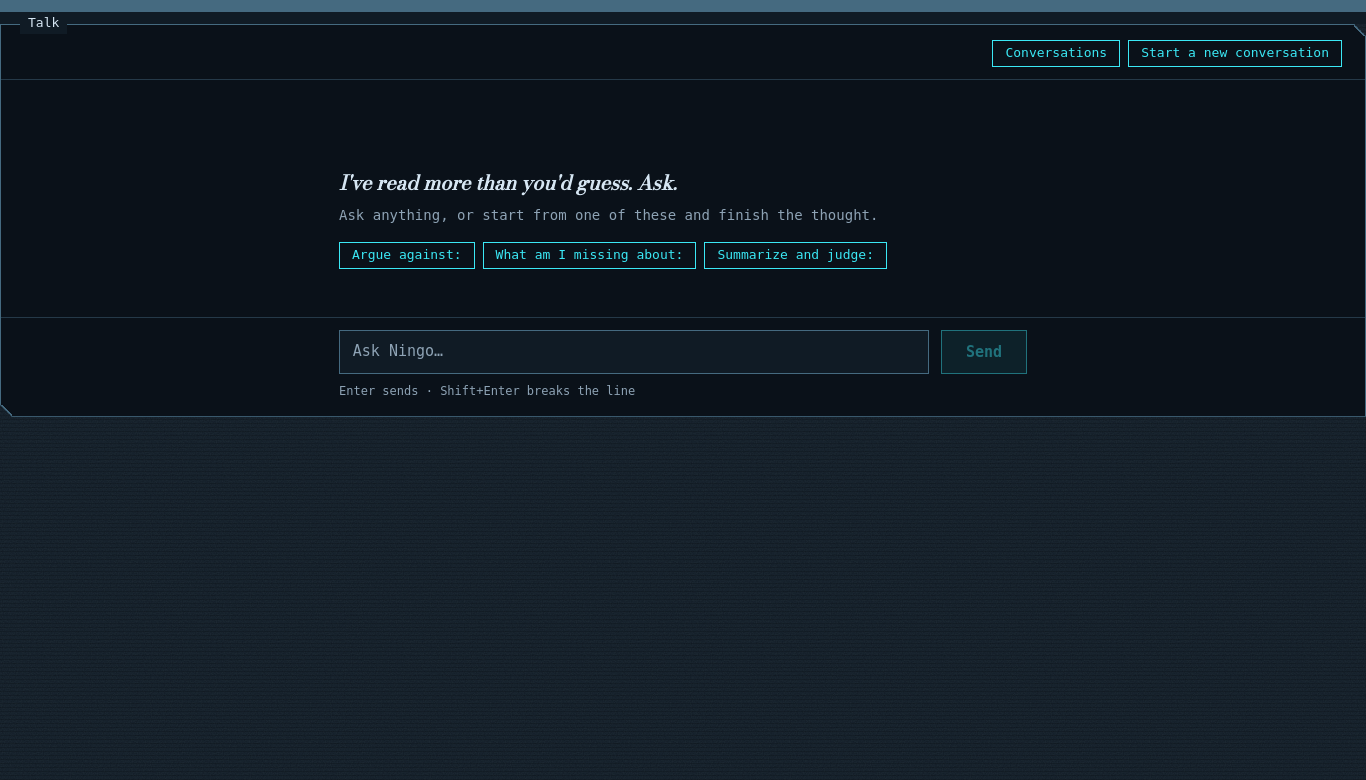
Scenario: the conversation › fills the message from a beginning and sends nothing until the owner does
Click the button "Argue against:" at [407, 255], box [339,242,475,269]
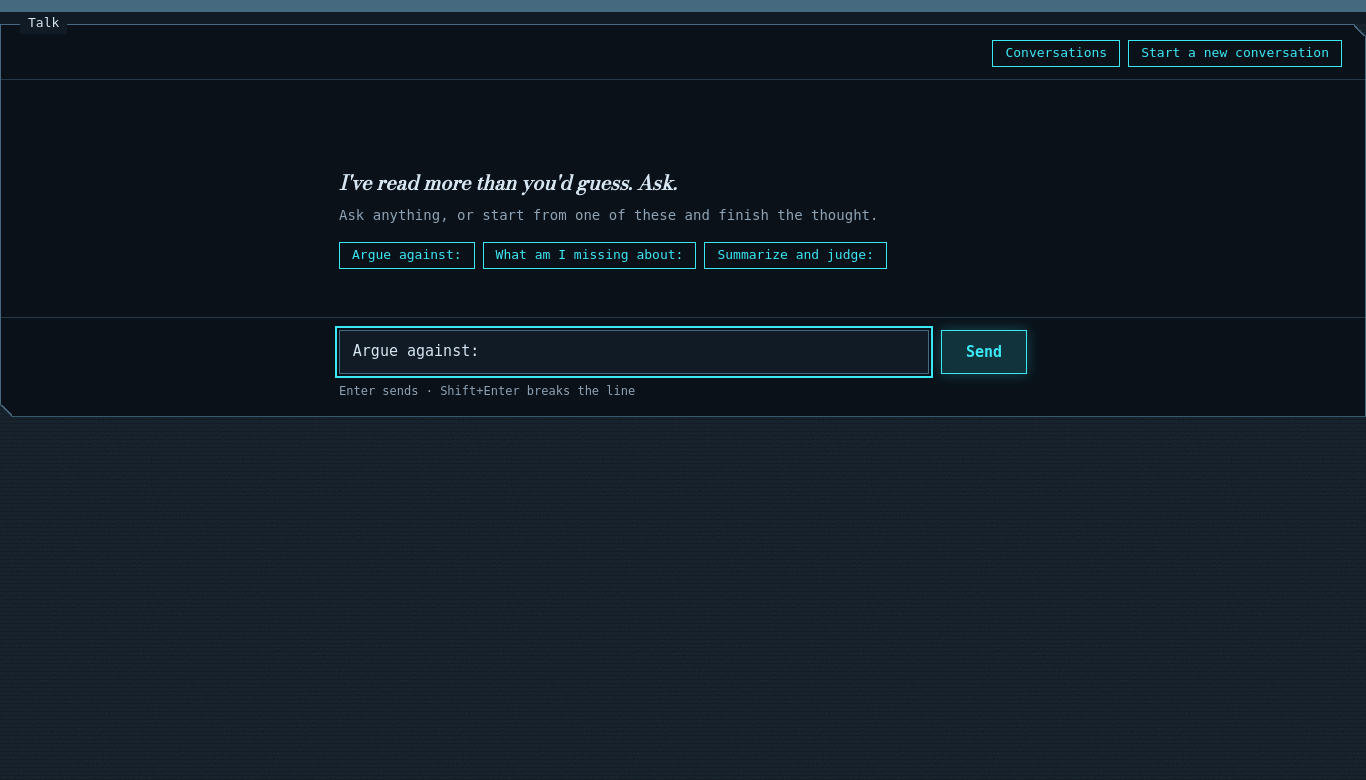
expect the text box named "Your message" holds "Argue against: ": met, box [339,330,929,374]
